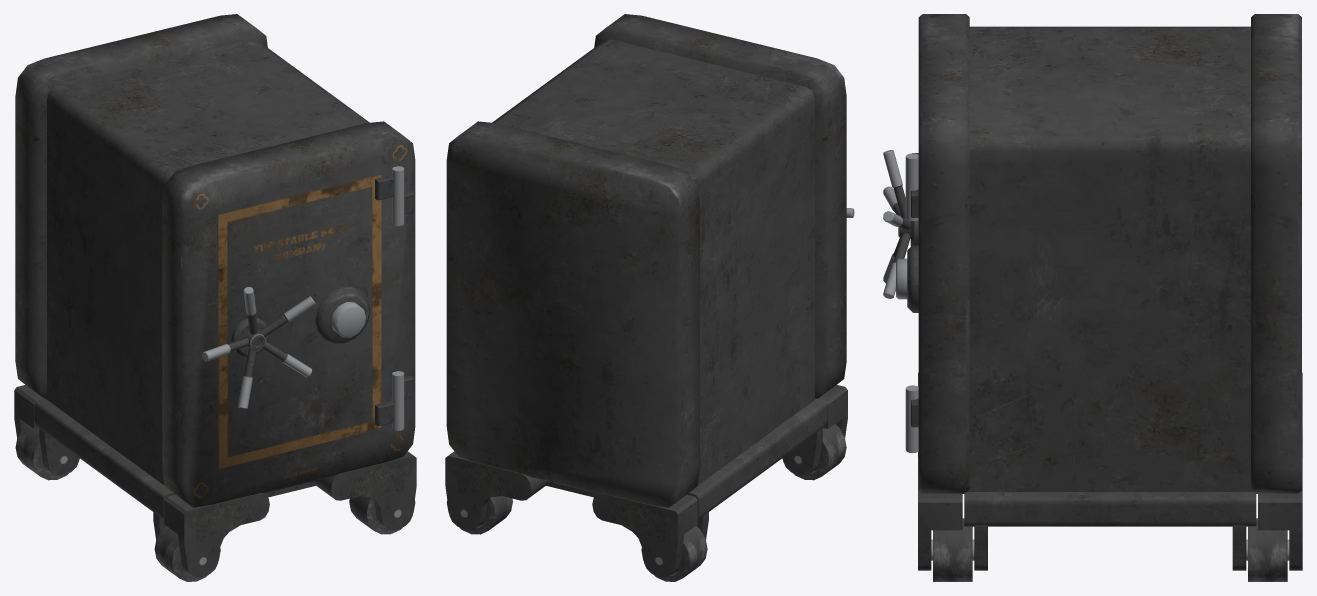
The model's file is safe.glb.
3 renders of one model, left to right at view 1: azimuth 30°, elevation 25°; view 2: azimuth 150°, elevation 25°; view 3: azimuth 270°, elevation 25°, orthographic. The views are drawn at different scales.
Parts seen in each view (by area): view 1: Safe_LP_M_SafeFrontPanel_0; view 2: Safe_LP_M_SafeFrontPanel_0; view 3: Safe_LP_M_SafeFrontPanel_0.
Part boxes in pixels (box(x1,y1,x2,y2)): Safe_LP_M_SafeFrontPanel_0: box(14, 14, 416, 581); Safe_LP_M_SafeFrontPanel_0: box(445, 14, 854, 581); Safe_LP_M_SafeFrontPanel_0: box(883, 14, 1302, 581).
Size of the model in its own units: 0.6219 by 0.9836 by 0.8199.
1 material, 1 textured.
